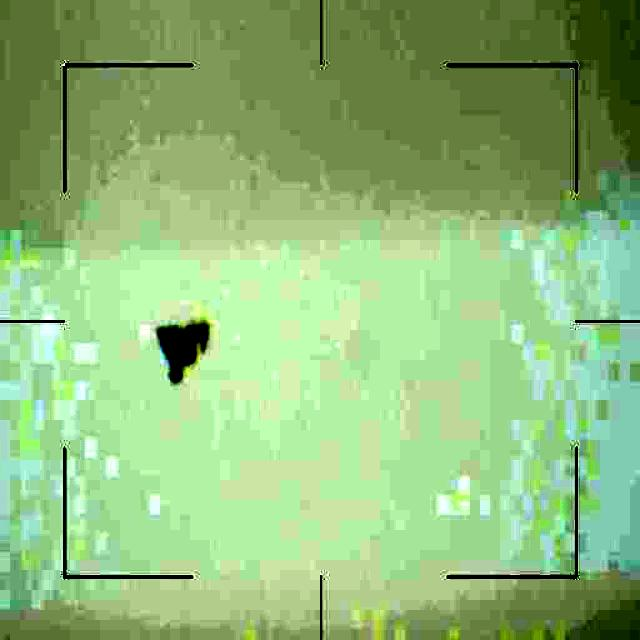bird: (149, 320, 218, 389)
